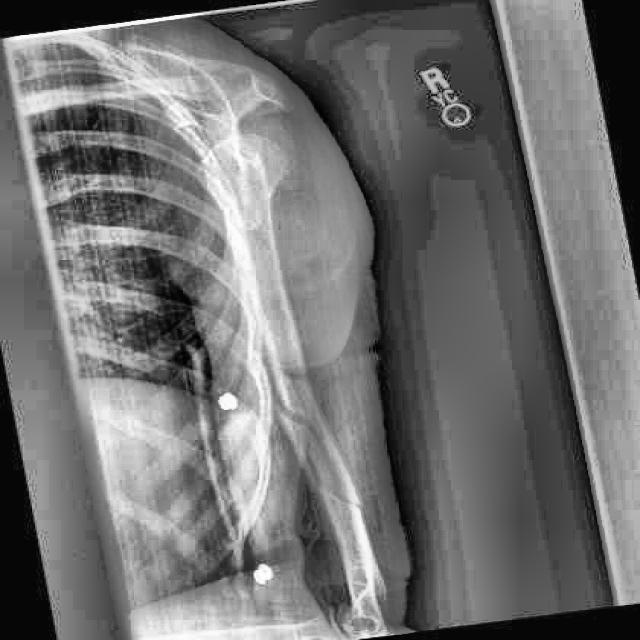humerus: (266, 384, 386, 547)
